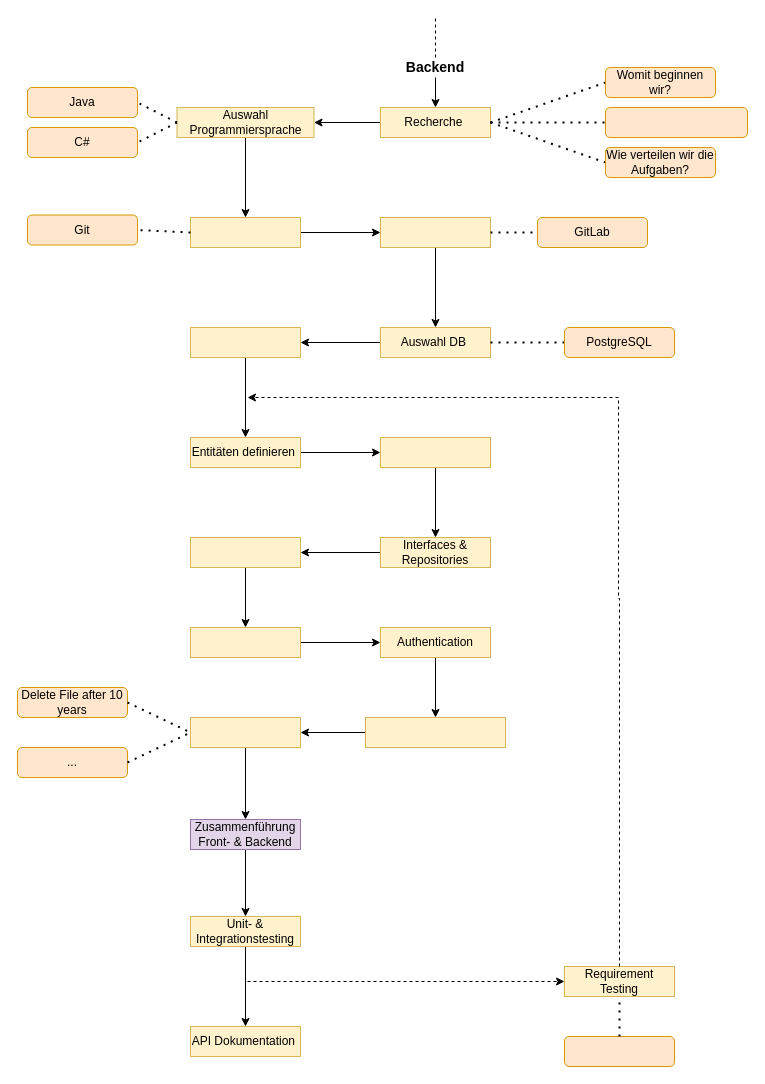
Image size: 765x1084. Some labels were removed from this diagram. The shapes that lost their labels are listed below. From the top down, each one's centre as x and y in pixels, then its label:
At point 676,122: "Welche Technologien verwenden wir?".
At point 245,232: "Versionskontrolle".
At point 435,232: "VCS festlegen".
At point 245,342: "Swagger UI".
At point 435,452: "ORM & DB Migration".
At point 245,552: "DTOs & Mapper".
At point 245,642: "Controller (API Endpunkte)".
At point 245,732: "Services".
At point 435,732: "Pagination, Querying, Searching".
At point 619,1051: "Kaskaden".
